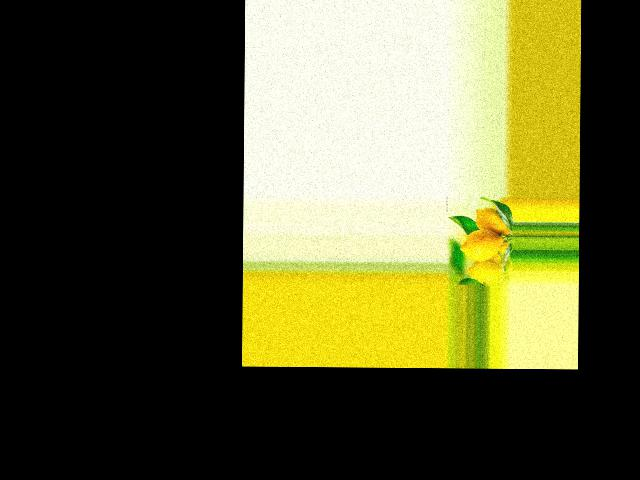lemon: (464, 259, 506, 283)
